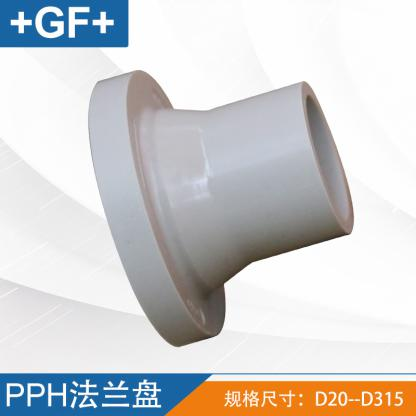FOD: (67, 60, 362, 356)
